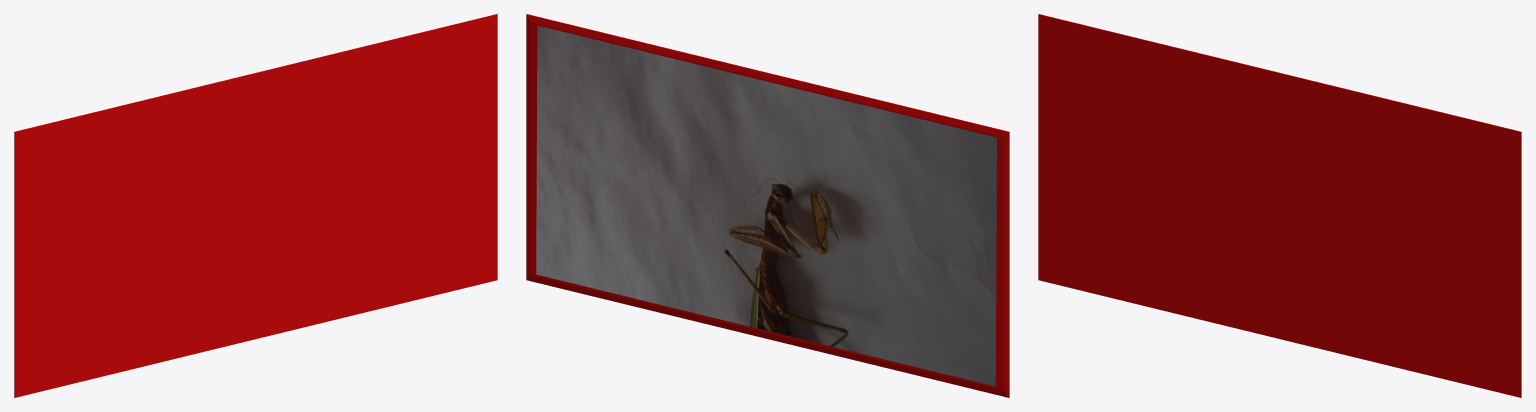
Rendered from PaintingA.fbx.
The picture shows the model from 3 angles, left to right: view 1: azimuth 30°, elevation 25°; view 2: azimuth 150°, elevation 25°; view 3: azimuth 330°, elevation 25°; orthographic projection.
Parts seen in each view (by area): view 1: polySurface1; view 2: polySurface1; view 3: polySurface1.
Part boxes in pixels (x1=…): polySurface1: x1=14, y1=14, x2=497, y2=397; polySurface1: x1=526, y1=14, x2=1009, y2=397; polySurface1: x1=1038, y1=14, x2=1521, y2=397.
Bounding box in the file's own units: 6.07 × 3.19 × 0.0493.
2 materials, 1 textured.
